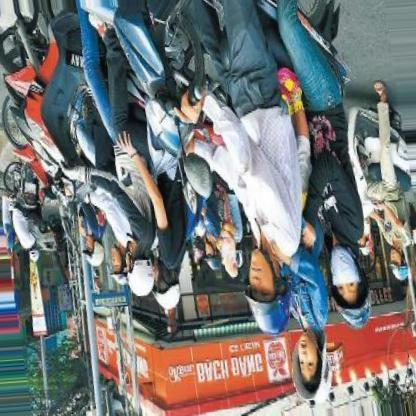with helmet: (244, 244, 293, 339), (327, 243, 373, 332), (289, 334, 334, 408), (123, 247, 156, 300)
